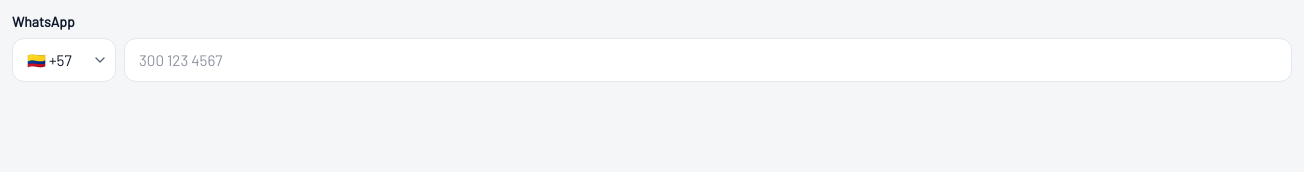
CampoWhatsapp › usa el país elegido
Select "🇻🇪 +58" in the dropdown named "Indicativo del país" at (64, 60), box [12,38,116,82]
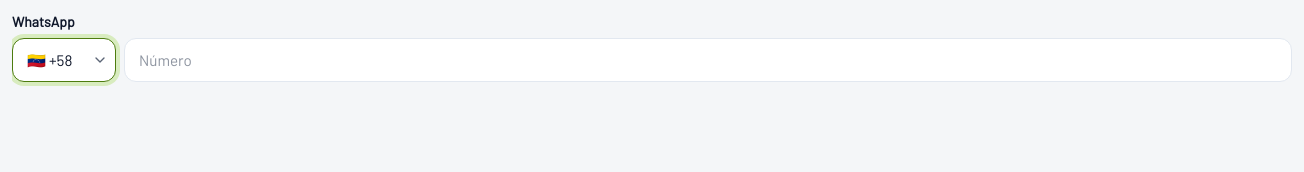
Type "4125551234" into the field labelled "WhatsApp" at (708, 60), box [124,38,1292,82]
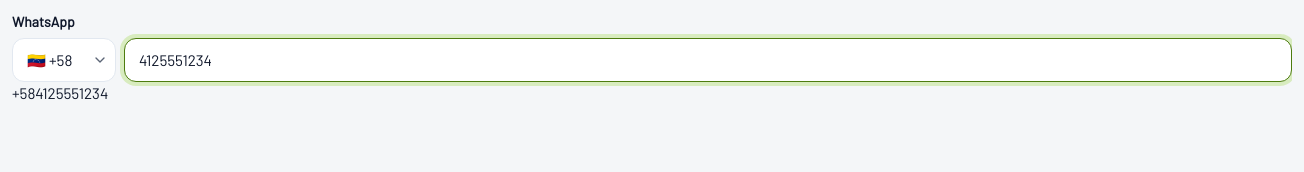
Expected: the text "+584125551234" is shown, [12,84,108,102]
